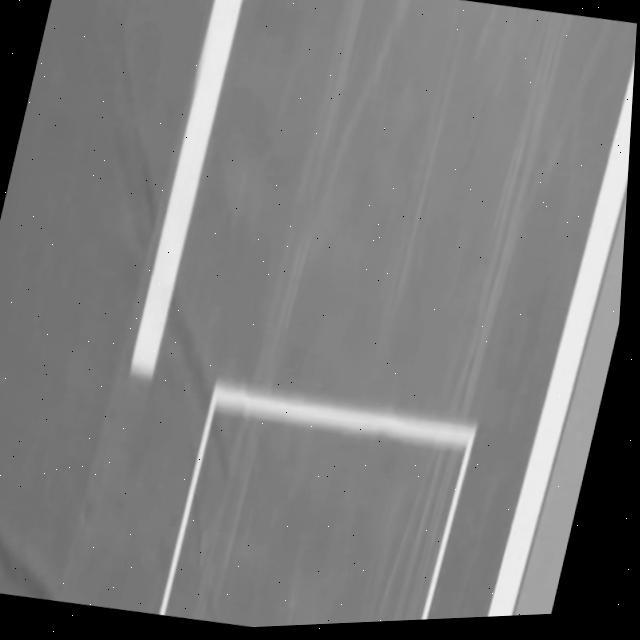center: (130, 0, 241, 379)
right: (487, 51, 635, 617)
